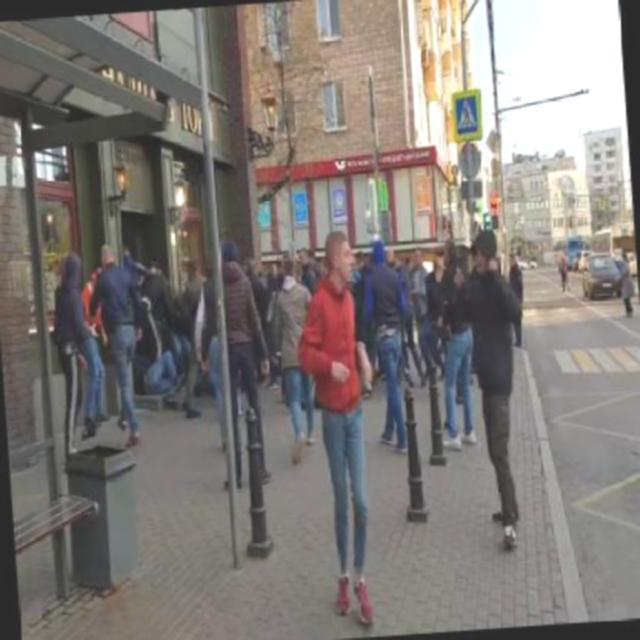non-fight: (290, 233, 382, 630), (448, 228, 532, 550)
